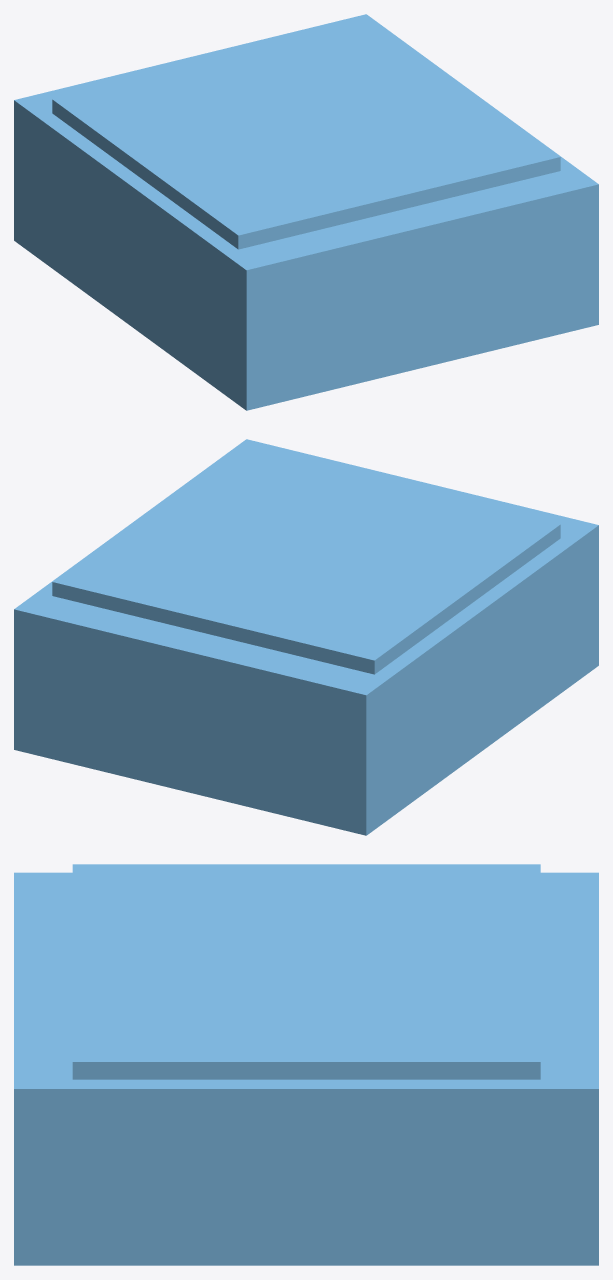
File: Prop_Pet_AMF_Bowl_V7.glb
3 views of the same model, one above another, from view 1: azimuth 30°, elevation 25°; view 2: azimuth 150°, elevation 25°; view 3: azimuth 270°, elevation 25° (orthographic). The views are drawn at different scales.
Parts seen in each view (by area): view 1: Prop_Pet_AMF_Bowl_V7; view 2: Prop_Pet_AMF_Bowl_V7; view 3: Prop_Pet_AMF_Bowl_V7.
Part boxes in pixels (x1,y1,x2,y2): Prop_Pet_AMF_Bowl_V7: (14, 14, 598, 410); Prop_Pet_AMF_Bowl_V7: (14, 439, 598, 835); Prop_Pet_AMF_Bowl_V7: (14, 864, 598, 1265).
Size of the model in its own units: 0.2625 by 0.11 by 0.3.
